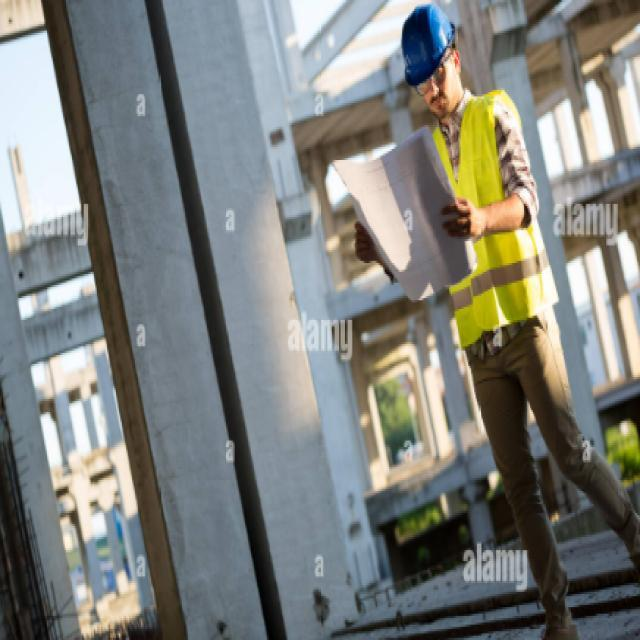hard_hat: (396, 2, 466, 128)
shoes: (519, 535, 640, 640)
vest: (403, 86, 561, 359)
